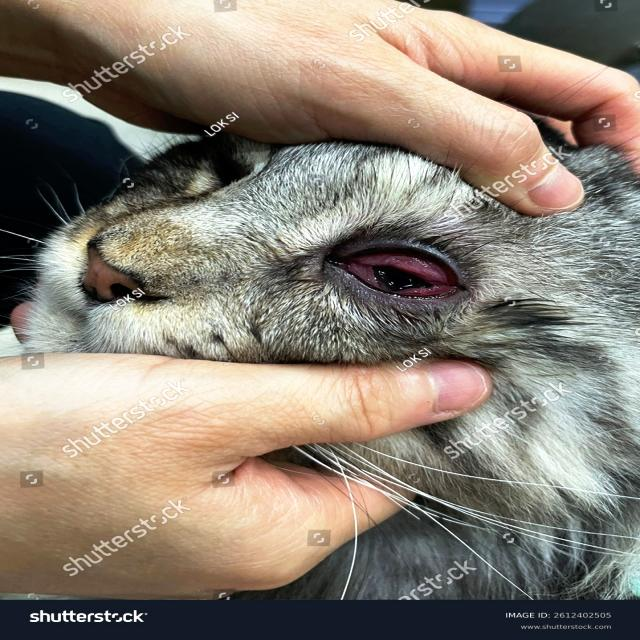eye_infection: (324, 248, 463, 300)
